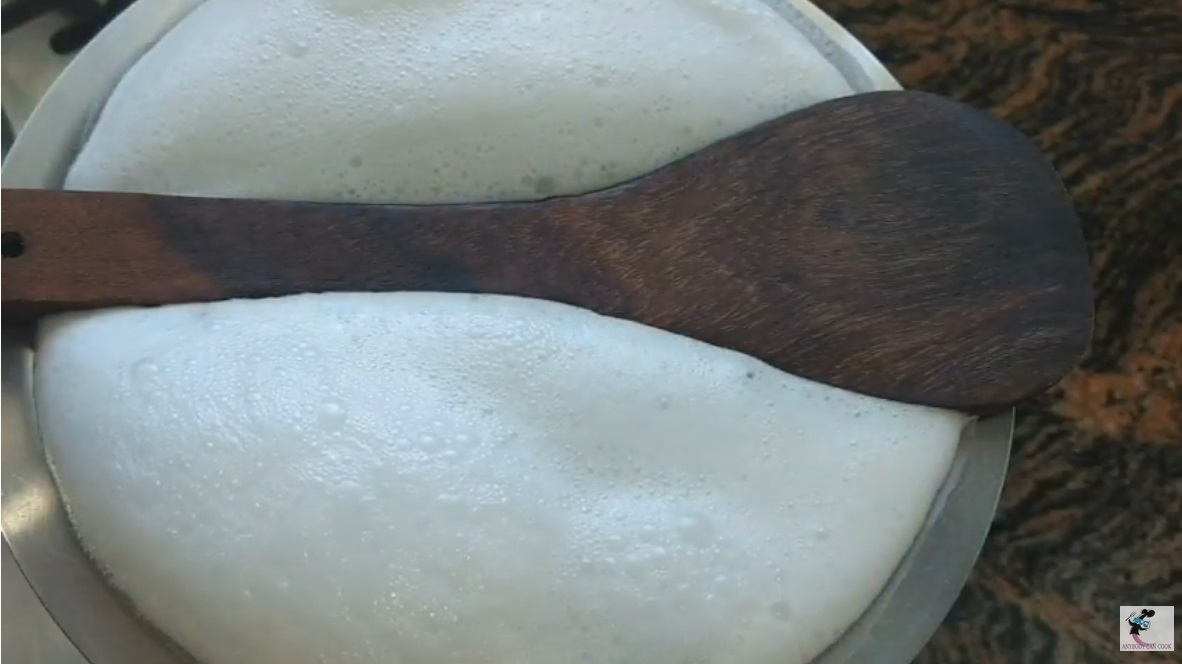Boiled: (59, 5, 947, 631)
